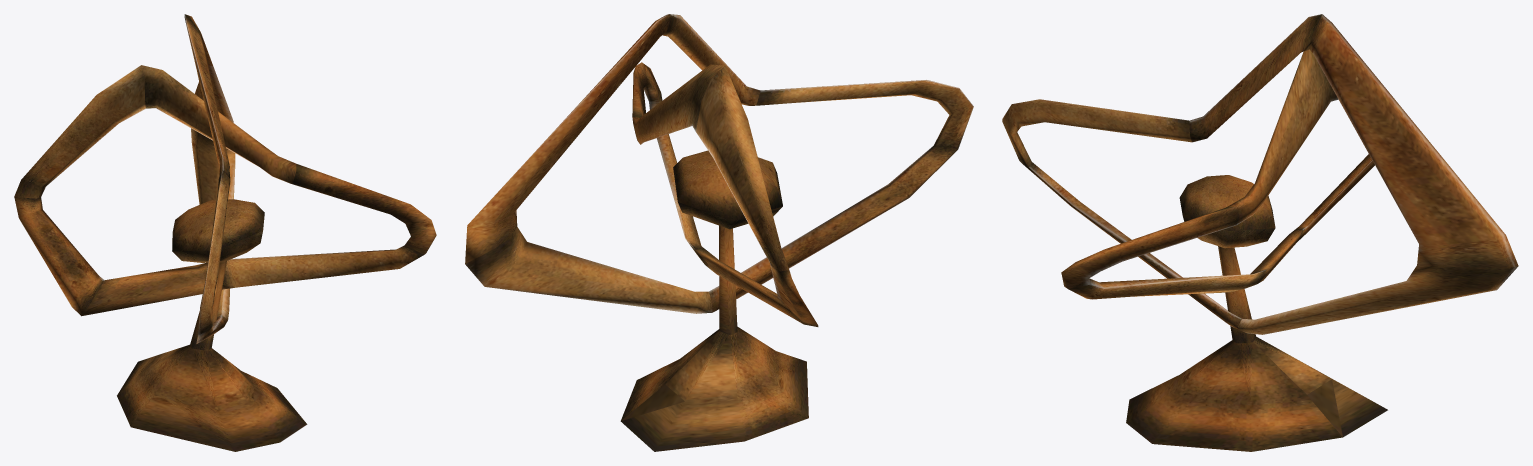
The model's file is frn_quest_sculpture_s01_l1.fbx.
3 renders of one model, left to right at view 1: azimuth 30°, elevation 25°; view 2: azimuth 150°, elevation 25°; view 3: azimuth 270°, elevation 25°, orthographic. The views are drawn at different scales.
Visible parts, largest first — view 1: mesh_node; view 2: mesh_node; view 3: mesh_node.
Part boxes in pixels (left/top/right/bottom): mesh_node: left=14, top=14, right=436, bottom=451; mesh_node: left=465, top=14, right=973, bottom=451; mesh_node: left=1002, top=14, right=1518, bottom=451.
Bounding box in the file's own units: 1.26 × 1.6 × 1.84.
